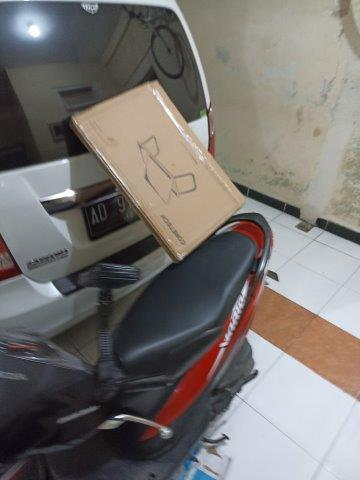kardus: (74, 83, 244, 261)
